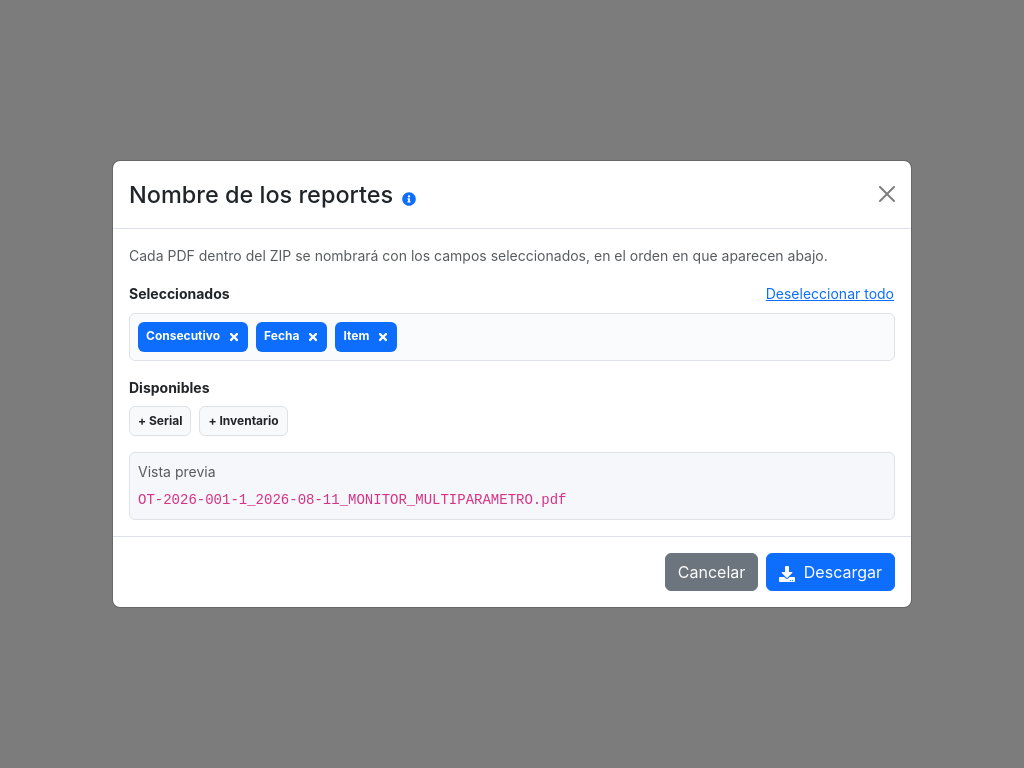
Test: PdfReportsFilenameModal › renders the info popover when the info icon is clicked
Click the button named "información" at (409, 197), box [401,186,417,209]
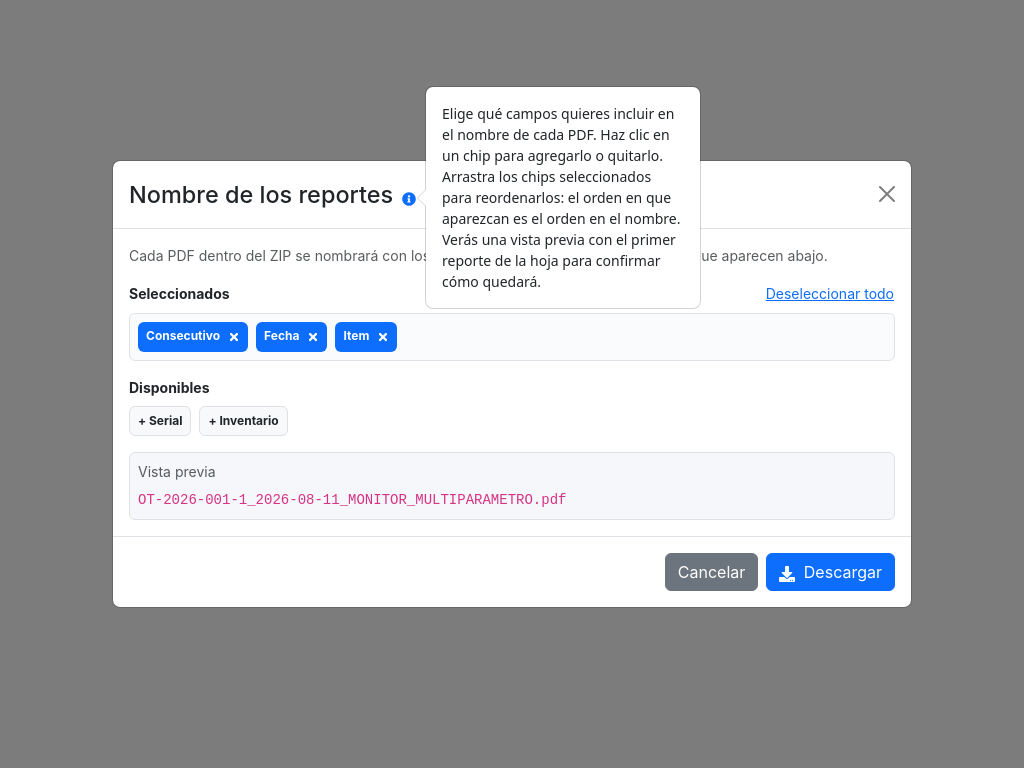
Check: the text "Haz clic en un chip" is shown, box [442,104,680,291]
